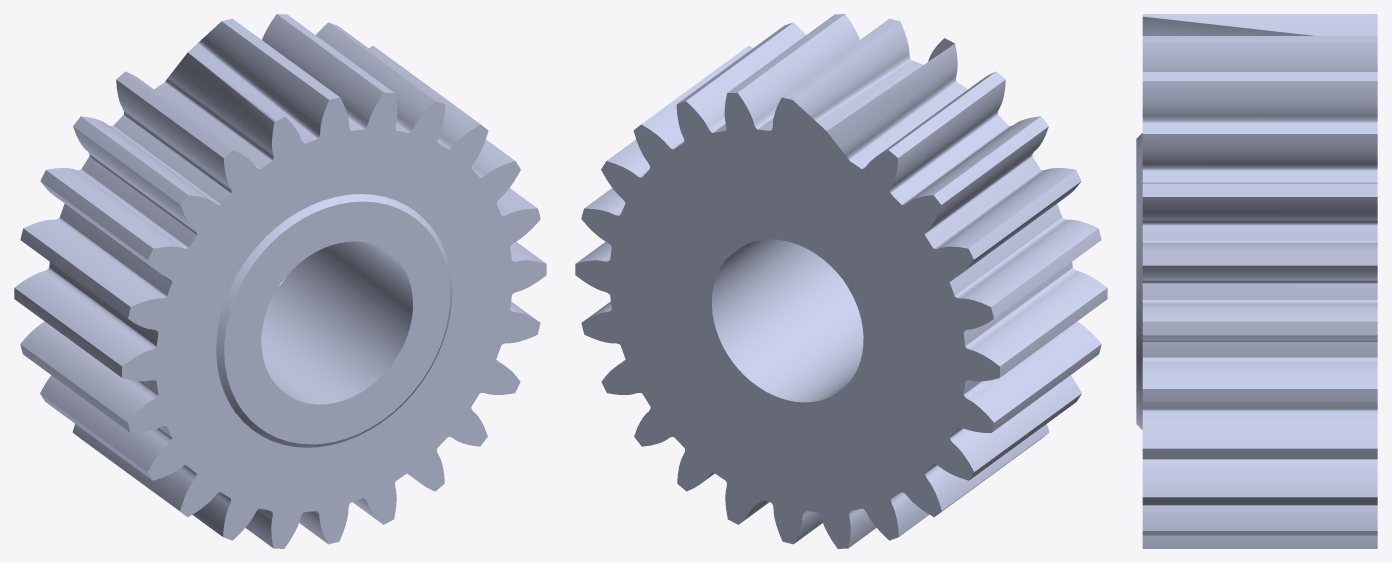
Rendered from MAXPlanetary_3_Stage_STEP_1_REV_21_2102_STEP_1_surface2.obj.
3 views of the same model, side by side, from view 1: azimuth 30°, elevation 25°; view 2: azimuth 150°, elevation 25°; view 3: azimuth 270°, elevation 25° (orthographic). The views are drawn at different scales.
Visible parts, largest first — view 1: mesh27418, mesh27422, mesh27423, mesh27324, mesh27399, mesh27395, mesh27328, mesh27417, mesh27403, mesh27391, mesh27413, mesh27332 (+25 smaller); view 2: mesh27421, mesh27423, mesh27417, mesh27324, mesh27399, mesh27395, mesh27328, mesh27403, mesh27391, mesh27413, mesh27332, mesh27407 (+22 smaller); view 3: mesh27330, mesh27352, mesh27356, mesh27334, mesh27348, mesh27326, mesh27338, mesh27360, mesh27344, mesh27342, mesh27339, mesh27343 (+22 smaller).
Boxes of the visible parts, x1,y1,x2,y2 form: mesh27418: (122,92,546,548); mesh27422: (224,201,450,444); mesh27423: (261,241,412,404); mesh27324: (188,21,328,138); mesh27399: (14,267,156,366); mesh27395: (20,321,158,422); mesh27328: (262,14,383,129); mesh27417: (164,52,274,160); mesh27403: (23,217,166,306); mesh27391: (40,375,171,471); mesh27413: (116,80,231,193); mesh27332: (316,22,435,132); mesh27421: (575,92,999,548); mesh27423: (712,239,863,402); mesh27417: (827,44,957,160); mesh27324: (793,21,911,130); mesh27399: (965,267,1107,366); mesh27395: (963,321,1101,422); mesh27328: (738,14,859,129); mesh27403: (955,217,1098,306); mesh27391: (950,375,1081,471); mesh27413: (890,80,1005,193); mesh27332: (686,22,805,132); mesh27407: (933,168,1075,248); mesh27330: (1142,81,1377,122); mesh27352: (1142,409,1377,448); mesh27356: (1142,459,1377,497); mesh27334: (1142,134,1377,170); mesh27348: (1142,357,1377,388); mesh27326: (1142,42,1377,71); mesh27338: (1142,197,1377,225); mesh27360: (1142,505,1377,530); mesh27344: (1142,299,1377,321); mesh27342: (1142,265,1377,283); mesh27339: (1142,225,1377,240); mesh27343: (1142,284,1377,299).
Bounding box in the file's own units: 0.0169 × 0.0169 × 0.00762.
